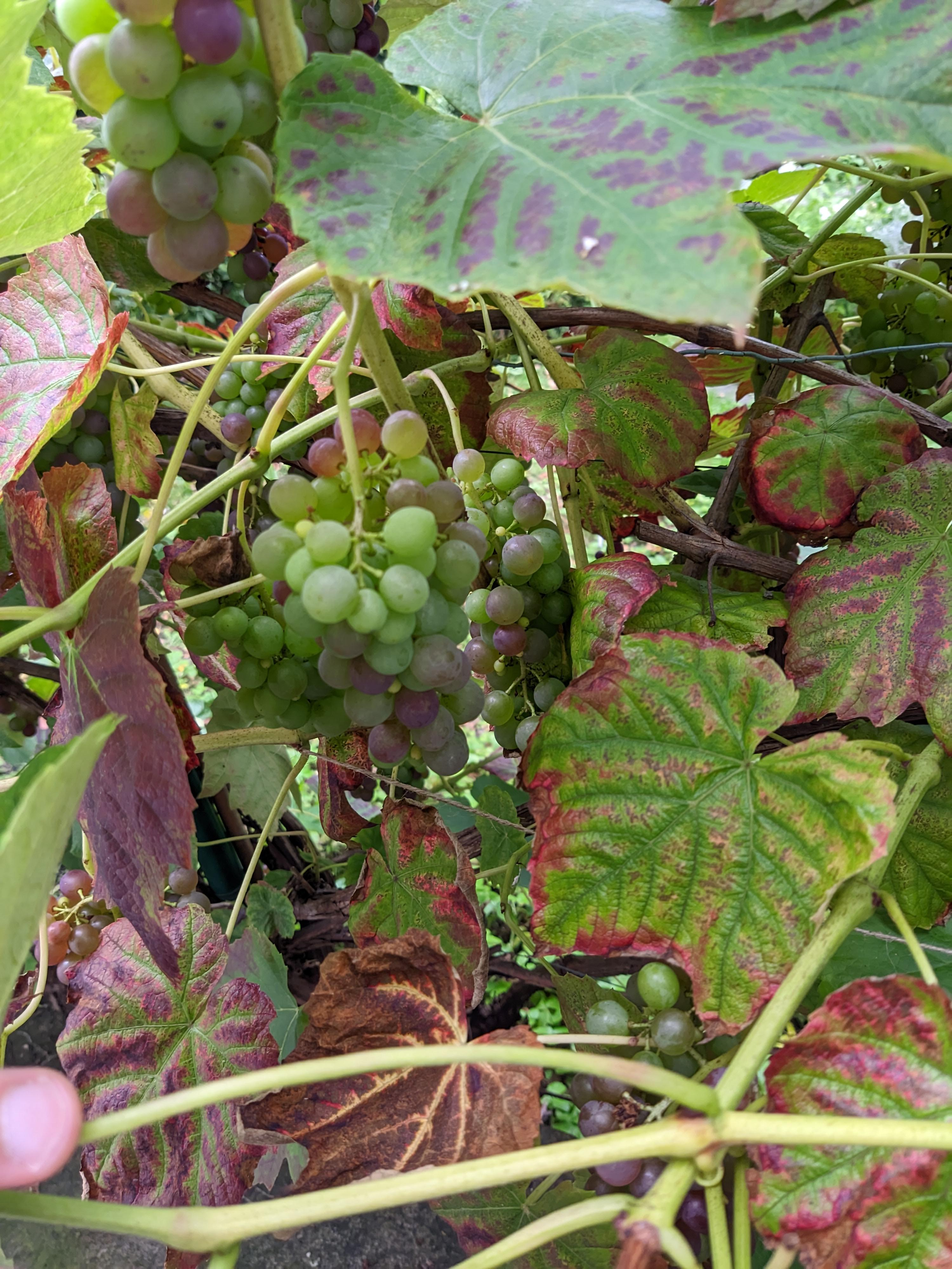Grape Unripe: (251, 403, 486, 780), (59, 0, 280, 282), (561, 963, 760, 1232), (425, 447, 575, 753), (176, 587, 354, 744), (17, 862, 219, 992), (28, 362, 147, 549), (844, 251, 952, 403), (297, 0, 390, 66)
